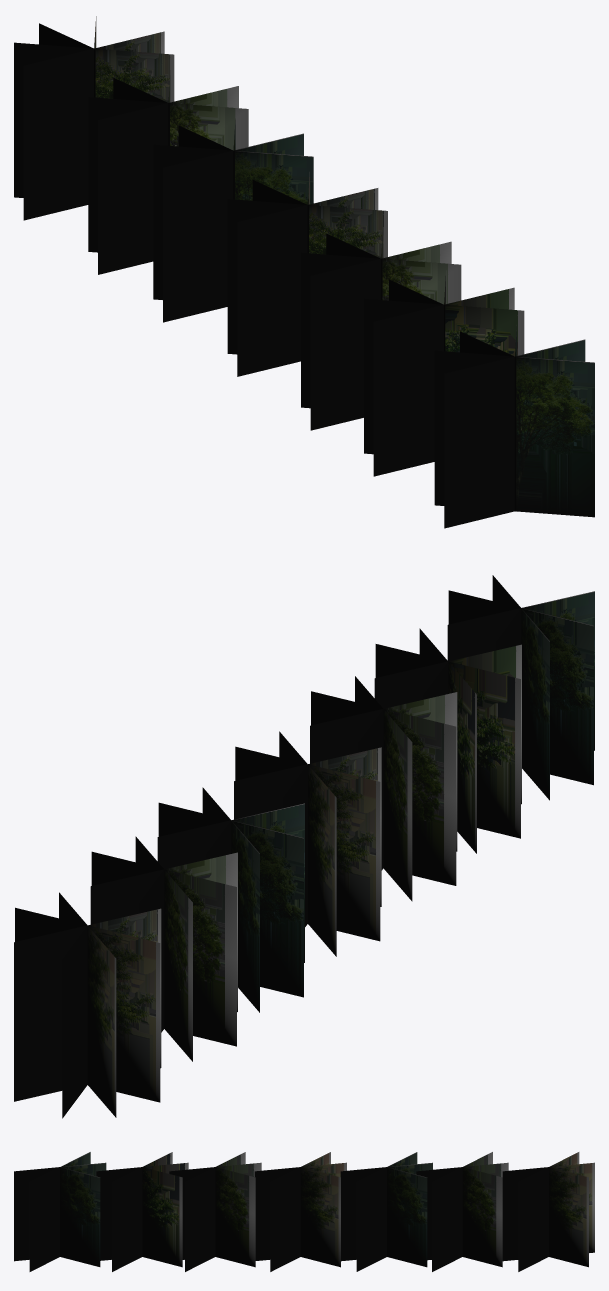
File: AMB_TREE.glb
3 renders of one model, top to bottom at view 1: azimuth 30°, elevation 25°; view 2: azimuth 150°, elevation 25°; view 3: azimuth 270°, elevation 25°, orthographic. The views are drawn at different scales.
Parts seen in each view (by area): view 1: J07, J00, J02, J03, J06, J01, J05; view 2: J00, J01, J03, J05, J07, J02, J06; view 3: J00, J07, J02, J03, J06, J01, J05.
Boxes of the visible parts, x1,y1,x2,y2 form: J07: [434, 325, 594, 528]; J00: [14, 16, 174, 220]; J02: [153, 118, 313, 322]; J03: [227, 172, 387, 376]; J06: [364, 270, 524, 476]; J01: [88, 70, 248, 274]; J05: [301, 227, 461, 430]; J00: [14, 892, 161, 1118]; J01: [90, 836, 237, 1061]; J03: [234, 731, 381, 956]; J05: [310, 676, 457, 901]; J07: [447, 575, 594, 800]; J02: [157, 787, 304, 1012]; J06: [374, 628, 521, 853]; J00: [502, 1152, 594, 1271]; J07: [14, 1152, 106, 1271]; J02: [340, 1152, 432, 1271]; J03: [254, 1152, 346, 1271]; J06: [96, 1152, 188, 1271]; J01: [416, 1152, 508, 1271]; J05: [169, 1152, 261, 1271].
Bounding box in the file's own units: 17.14 × 17.99 × 105.
Materials: 7 (7 with a texture image).
